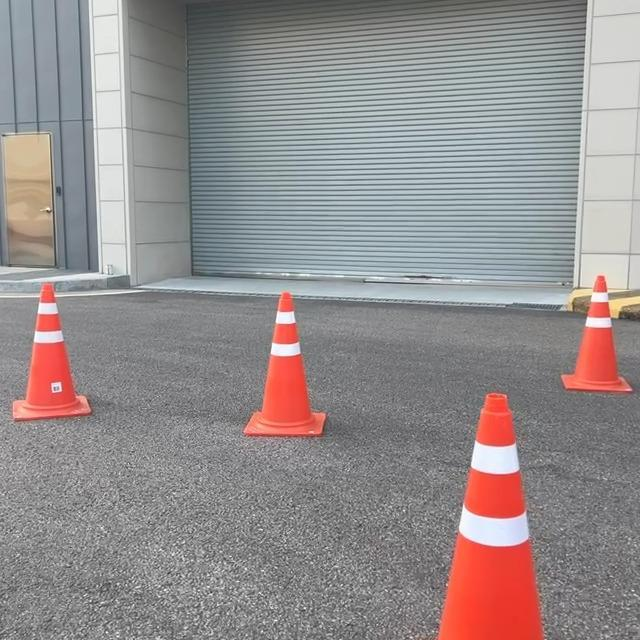fallen_object: (344, 364, 591, 640), (173, 277, 336, 464), (16, 270, 106, 428), (539, 283, 637, 412)
